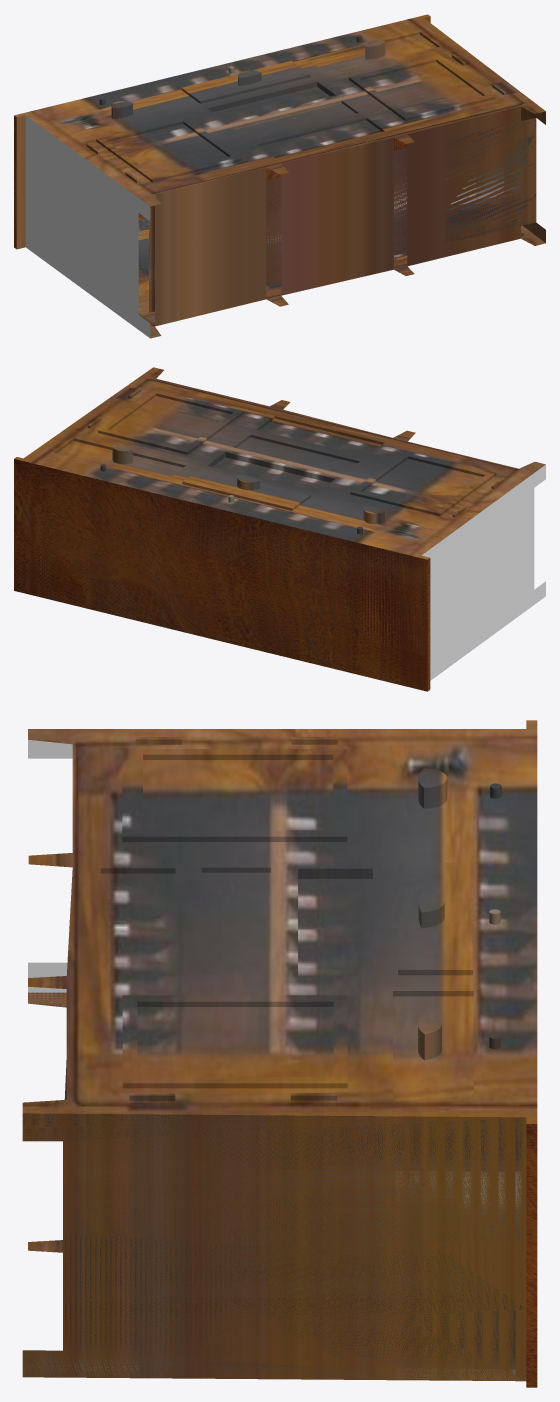
3 renders of one model, top to bottom at view 1: azimuth 30°, elevation 25°; view 2: azimuth 150°, elevation 25°; view 3: azimuth 270°, elevation 25°, orthographic. The views are drawn at different scales.
Visible parts, largest first — view 1: mesh1_mesh1-geometry; view 2: mesh1_mesh1-geometry; view 3: mesh1_mesh1-geometry.
Boxes of the visible parts, <box> form: mesh1_mesh1-geometry: <box>14,14,545,338</box>; mesh1_mesh1-geometry: <box>14,367,545,691</box>; mesh1_mesh1-geometry: <box>22,720,537,1387</box>.
Bounding box in the file's own units: 0.8455 × 0.2782 × 0.4558.
